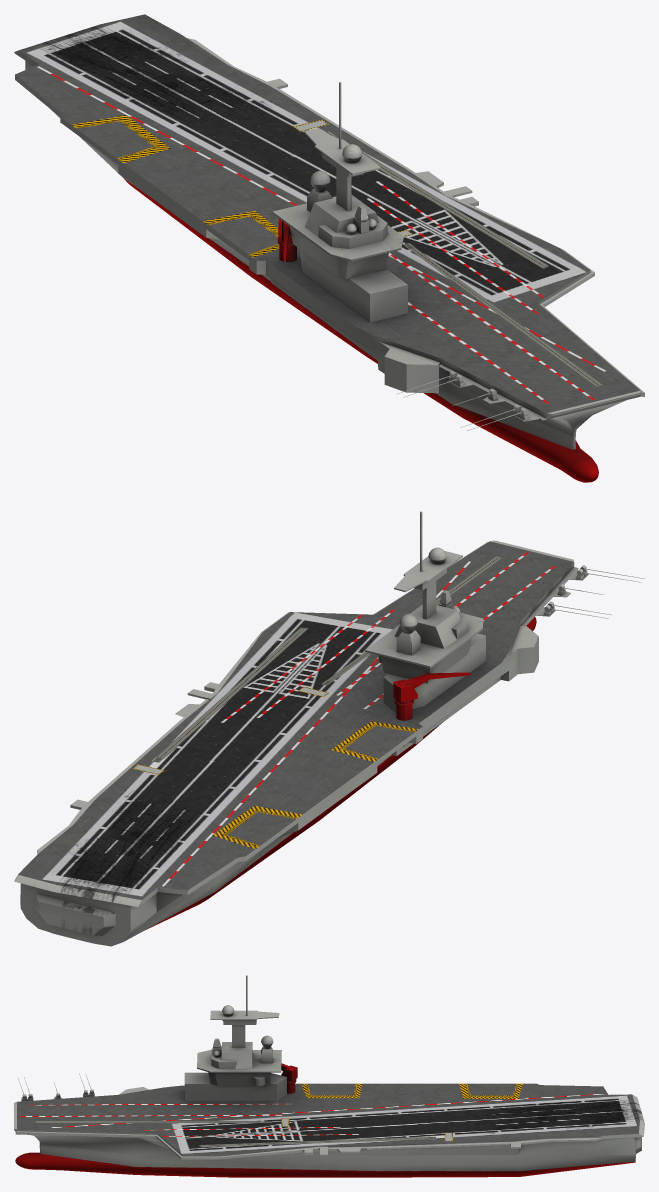
3 renders of one model, top to bottom at view 1: azimuth 30°, elevation 25°; view 2: azimuth 150°, elevation 25°; view 3: azimuth 270°, elevation 25°, orthographic. The views are drawn at different scales.
Visible parts, largest first — view 1: Charles, tower, elevator2, elevator1, aimer; view 2: Charles, tower, elevator2, elevator1, aimer; view 3: Charles, tower, elevator2, elevator1.
Boxes of the visible parts, bbox=[...] form: Charles: bbox=[14, 14, 644, 482]; tower: bbox=[272, 82, 407, 322]; elevator2: bbox=[74, 119, 158, 164]; elevator1: bbox=[206, 215, 279, 260]; aimer: bbox=[396, 371, 528, 430]; Charles: bbox=[14, 540, 588, 946]; tower: bbox=[365, 511, 485, 720]; elevator2: bbox=[223, 810, 298, 851]; elevator1: bbox=[340, 724, 416, 764]; aimer: bbox=[544, 565, 644, 618]; Charles: bbox=[14, 1083, 644, 1177]; tower: bbox=[184, 975, 297, 1101]; elevator2: bbox=[465, 1083, 518, 1096]; elevator1: bbox=[305, 1083, 357, 1096].
Size of the model in its own units: 1465 by 1440 by 4729.
1 material, 1 textured.
